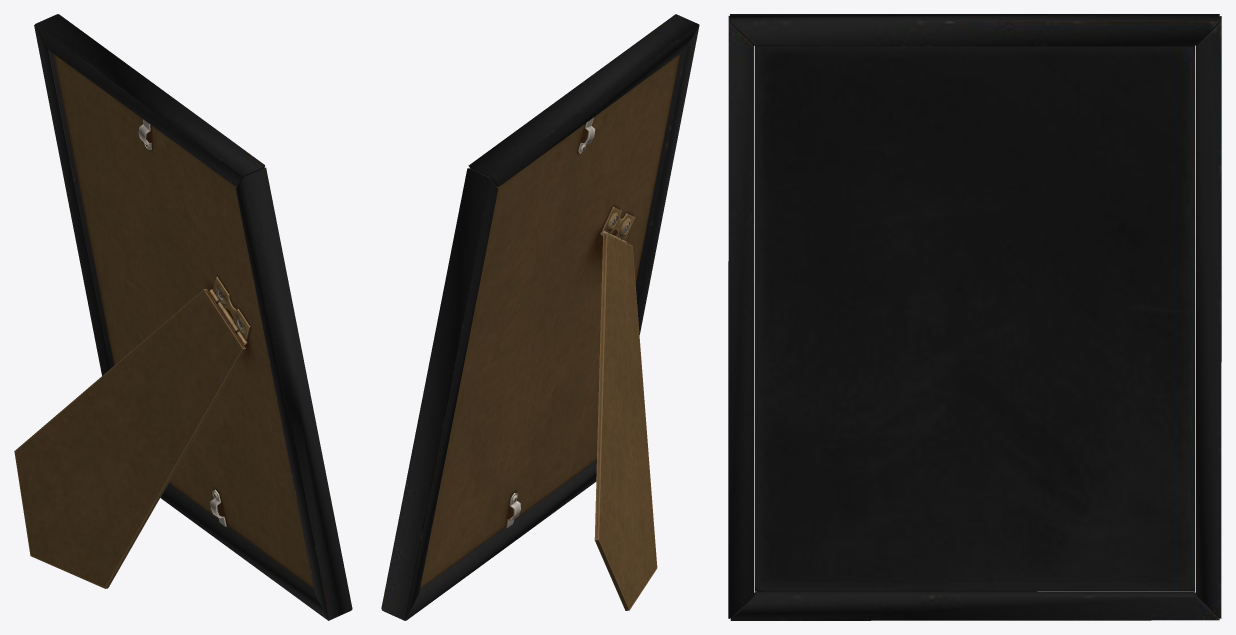
3 renders of one model, left to right at view 1: azimuth 30°, elevation 25°; view 2: azimuth 150°, elevation 25°; view 3: azimuth 270°, elevation 25°, orthographic. The views are drawn at different scales.
Visible parts, largest first — view 1: standing_picture_frame_01; view 2: standing_picture_frame_01; view 3: standing_picture_frame_01.
Part boxes in pixels (<box>): standing_picture_frame_01: <box>14,14,352,620</box>; standing_picture_frame_01: <box>381,14,699,620</box>; standing_picture_frame_01: <box>728,14,1221,620</box>.
Size of the model in its own units: 0.1003 by 0.2496 by 0.2004.
Materials: 3 (3 with a texture image).
